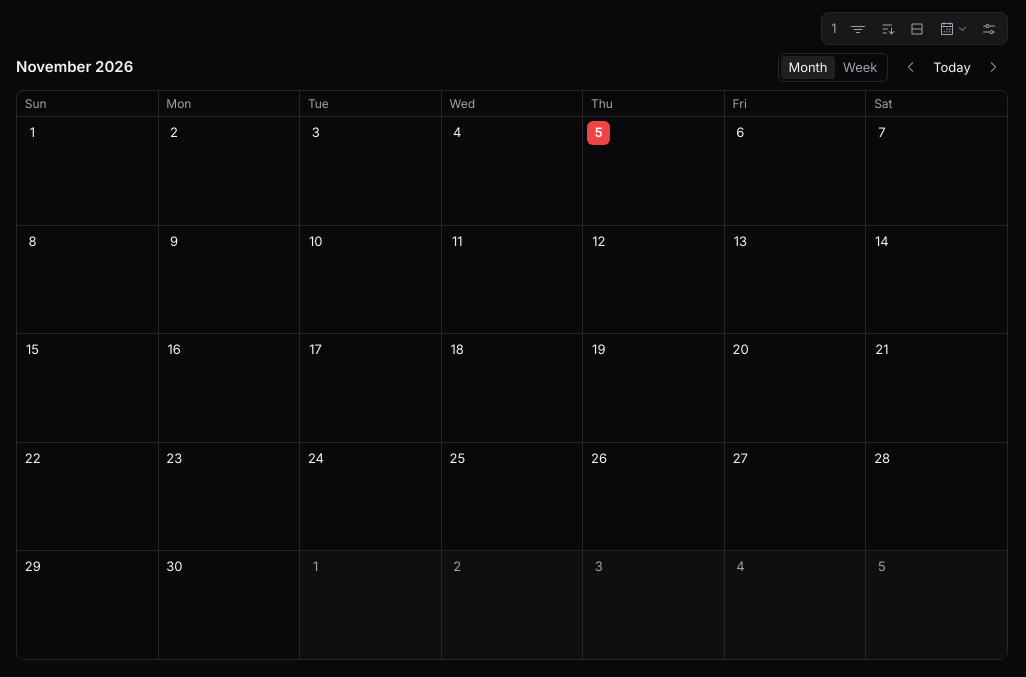
CalendarLayout modes and paging › previous, next and today in month mode
This screenshot has width=1026, height=677.
Click the button named "Next" at (993, 67), box [978, 54, 1008, 81]
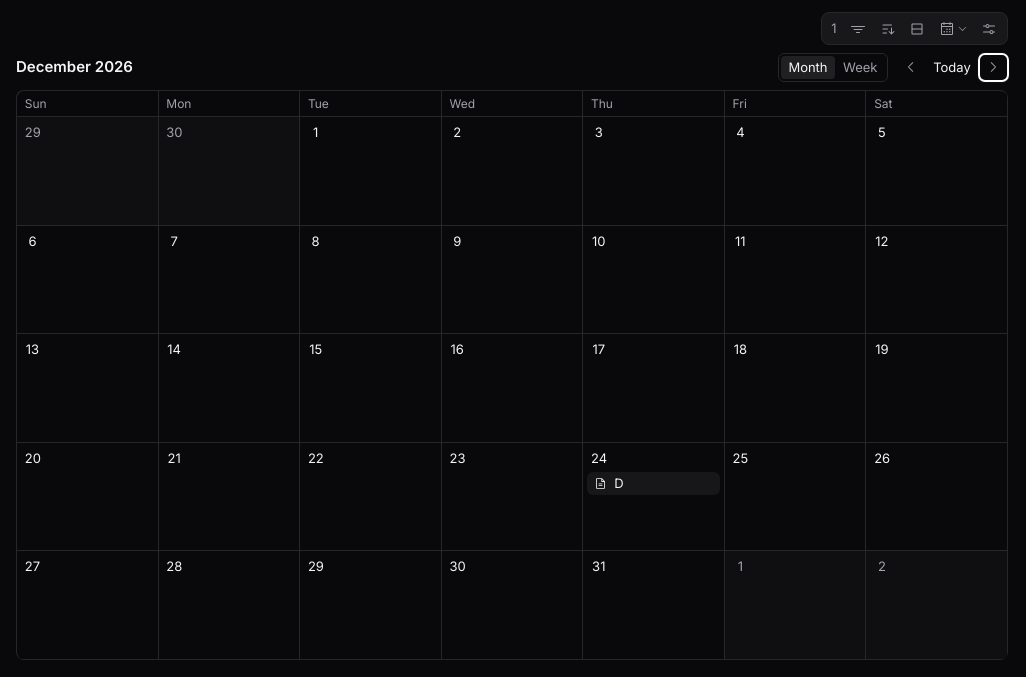
Result: the heading with test id "calendar-title" reads "December 2026" at [16, 57, 133, 76]
Result: the number of buttons with test id "calendar-chip" is 1 at [587, 472, 720, 495]
Click the button named "Previous" at (911, 67), box [896, 54, 926, 81]
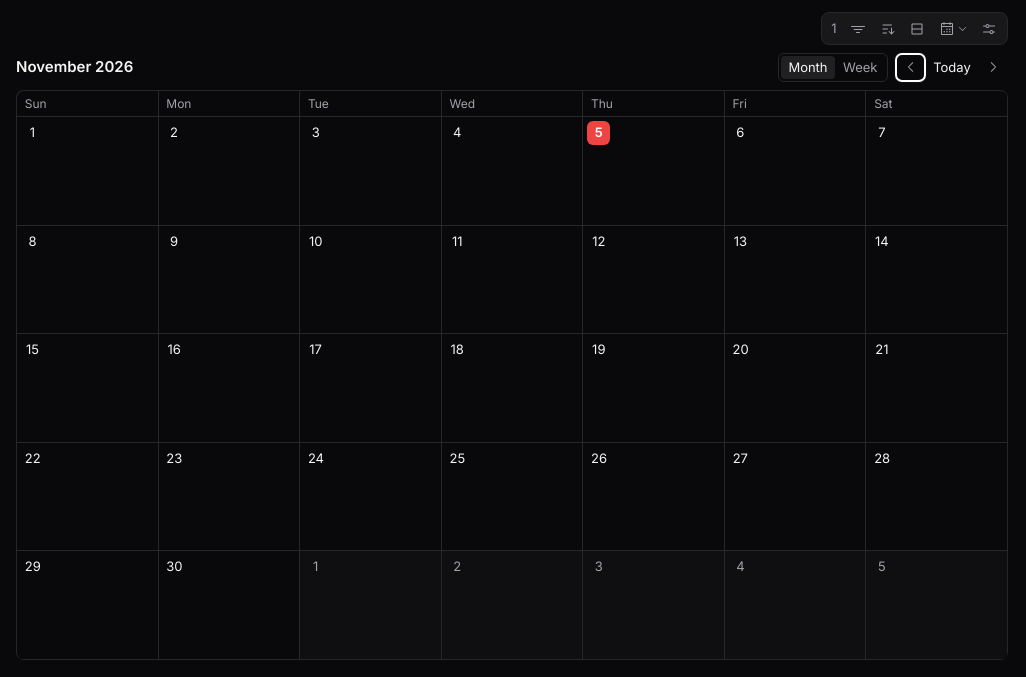
Click the button named "Previous" at (911, 67), box [896, 54, 926, 81]
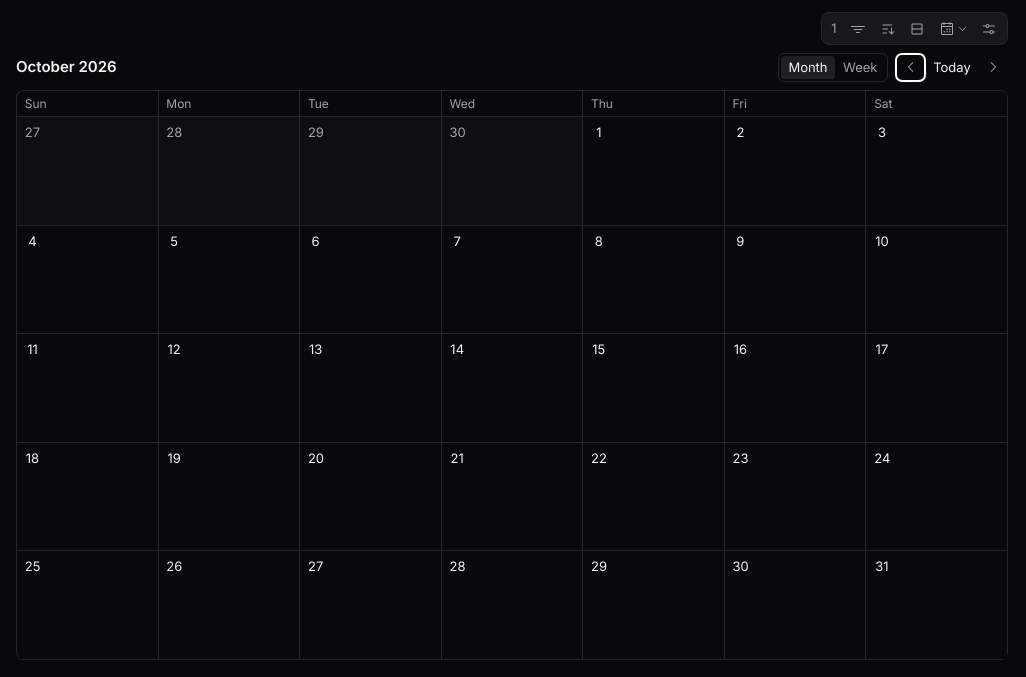
Result: the heading with test id "calendar-title" reads "October 2026" at [16, 57, 117, 76]
Click the button "Today" at (952, 67), box [926, 54, 978, 81]
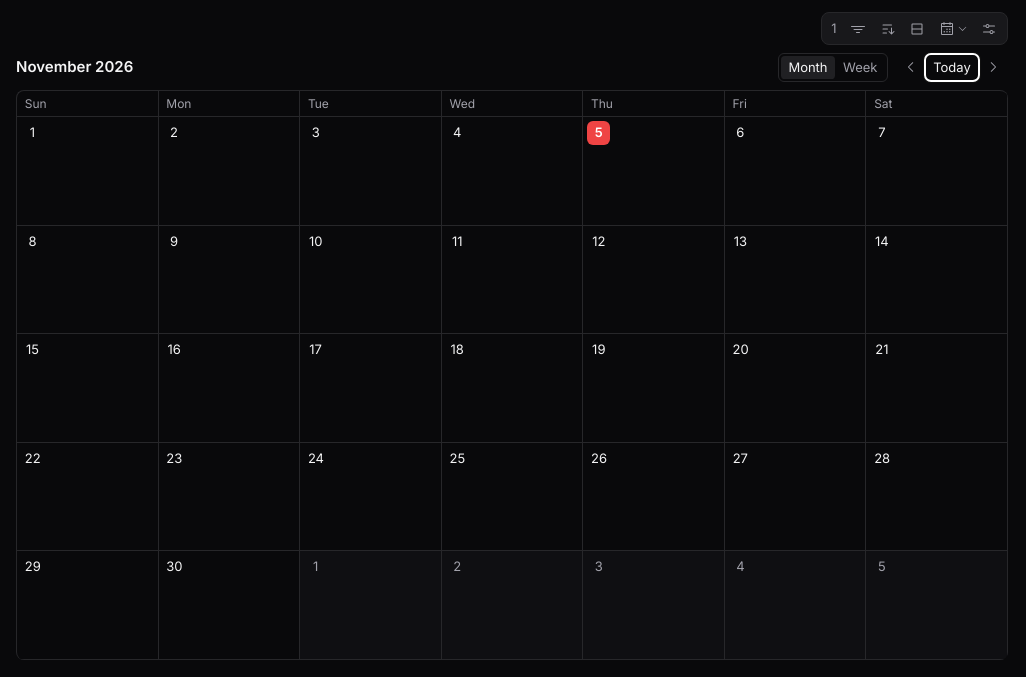
Result: the heading with test id "calendar-title" reads "November 2026" at [16, 57, 133, 76]
